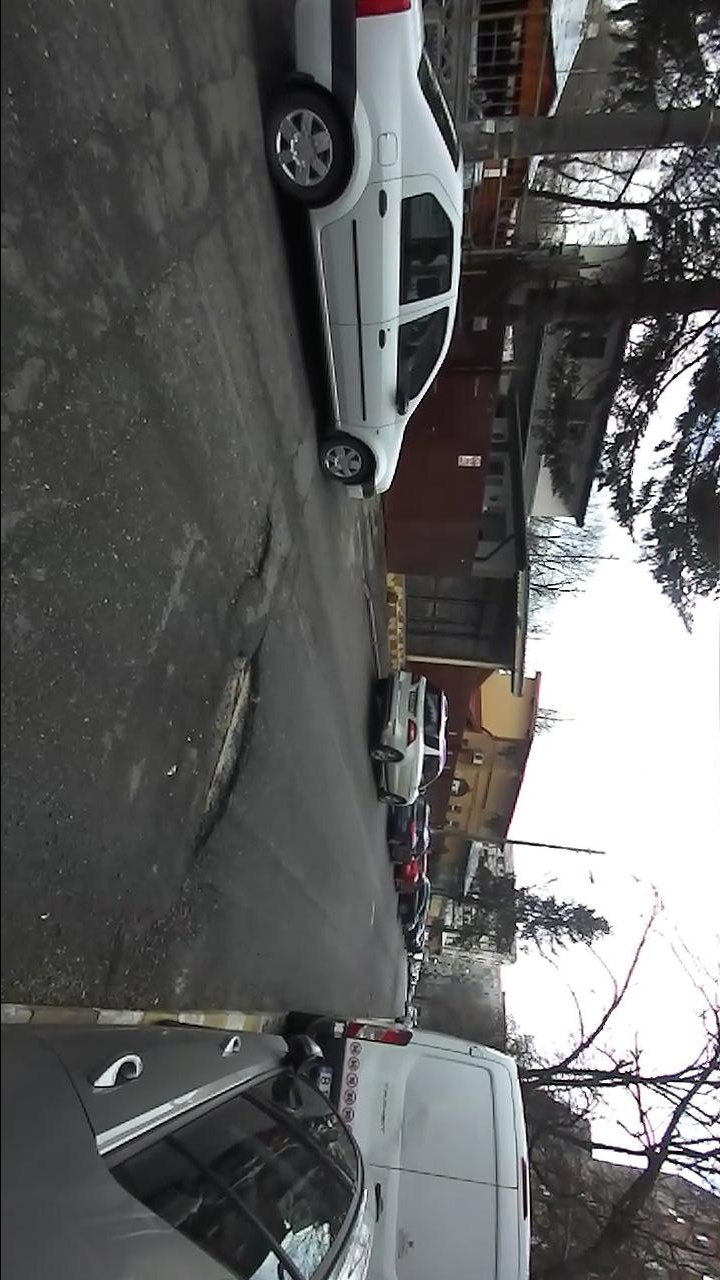pothole: (186, 636, 268, 861), (230, 501, 277, 600)
